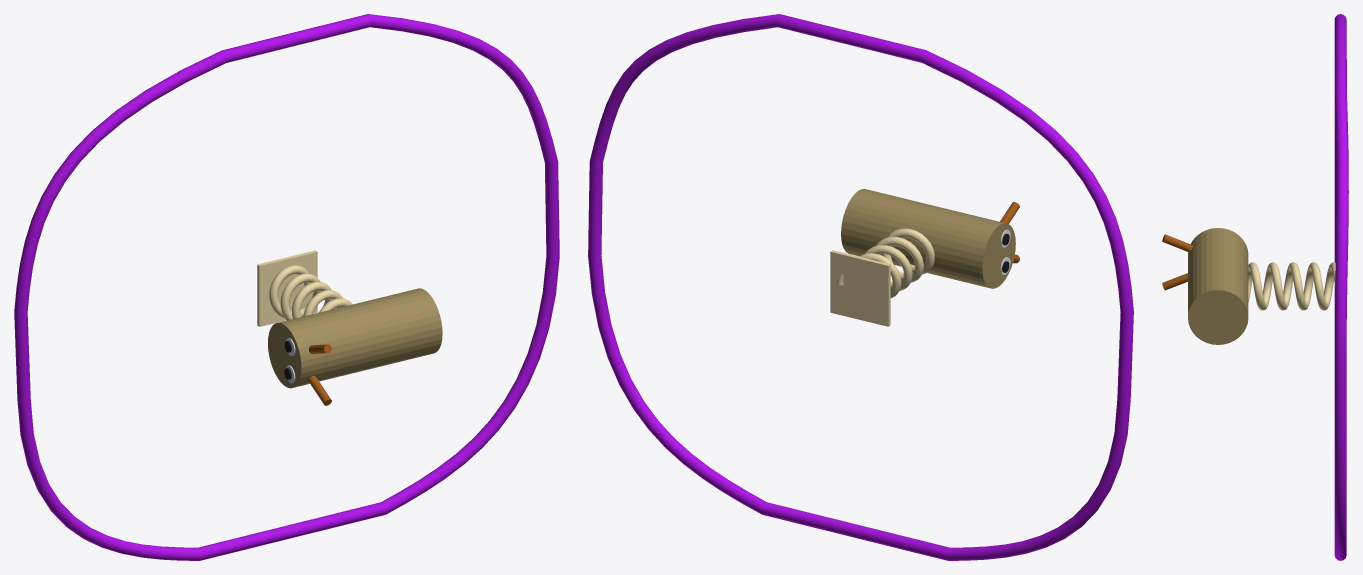
File: adanat-18929.glb
3 views of the same model, side by side, from view 1: azimuth 30°, elevation 25°; view 2: azimuth 150°, elevation 25°; view 3: azimuth 270°, elevation 25° (orthographic). The views are drawn at different scales.
Parts seen in each view (by area): view 1: _outline.023, Cylinder.169, Spiral.003, Cube.114; view 2: _outline.023, Cylinder.169, Cube.114, Spiral.003; view 3: _outline.023, Cylinder.169, Spiral.003, Cylinder.174.
Part boxes in pixels (bbox=[...]): _outline.023: bbox=[14, 14, 559, 560]; Cylinder.169: bbox=[268, 288, 442, 388]; Spiral.003: bbox=[269, 265, 352, 320]; Cube.114: bbox=[257, 250, 317, 326]; _outline.023: bbox=[588, 14, 1133, 560]; Cylinder.169: bbox=[841, 188, 1015, 288]; Cube.114: bbox=[830, 250, 890, 326]; Spiral.003: bbox=[837, 228, 934, 298]; _outline.023: bbox=[1334, 14, 1348, 560]; Cylinder.169: bbox=[1188, 228, 1248, 344]; Spiral.003: bbox=[1246, 262, 1335, 310]; Cylinder.174: bbox=[1162, 234, 1192, 252].
Size of the model in its own units: 2.8 by 2.48 by 0.9237.
